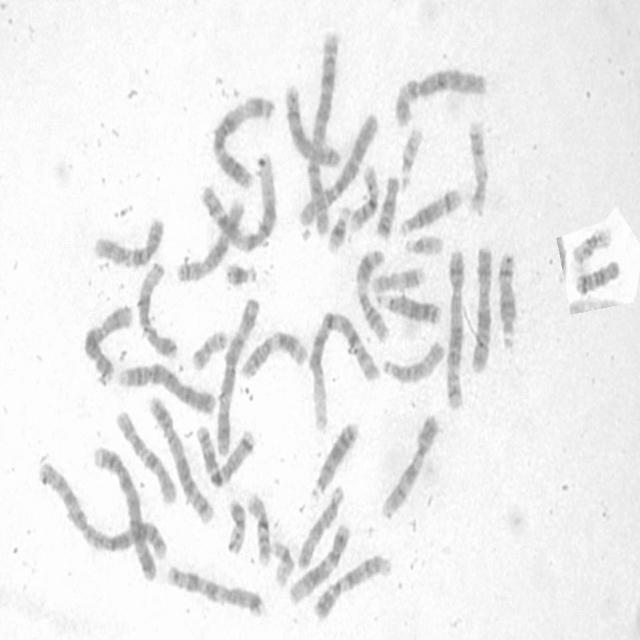A1: (306, 306, 382, 433), (200, 149, 278, 254)
A2: (33, 454, 167, 562), (301, 25, 341, 237)
A3: (214, 292, 262, 458), (208, 90, 276, 189)
B4: (89, 441, 159, 583), (115, 359, 217, 416)
B5: (144, 389, 216, 526), (441, 244, 467, 411)
C10: (112, 404, 178, 506), (89, 212, 166, 270)
C11: (237, 326, 309, 381), (352, 244, 390, 343)
C12: (284, 518, 351, 608), (135, 256, 180, 360)
C6: (297, 108, 380, 230), (392, 63, 488, 128)
C7: (164, 561, 267, 619), (194, 421, 256, 489)
C8: (175, 193, 247, 284), (282, 80, 344, 170)
C9: (379, 410, 442, 520), (310, 549, 393, 623)
D13: (308, 416, 361, 500), (373, 286, 443, 326)
D14: (396, 184, 464, 239), (495, 247, 520, 353)
D15: (294, 480, 346, 570), (379, 335, 447, 386)
E16: (347, 159, 382, 232), (244, 487, 274, 568)
E17: (465, 115, 490, 216), (369, 262, 427, 295)
E18: (572, 254, 622, 296), (374, 171, 401, 239)
F19: (569, 222, 613, 268), (268, 535, 295, 589)
F20: (188, 324, 230, 372), (223, 494, 247, 556)
G21: (324, 201, 353, 255), (222, 256, 259, 289)
G22: (397, 121, 424, 192), (401, 230, 445, 257)
X: (80, 300, 134, 384), (469, 239, 495, 375)
